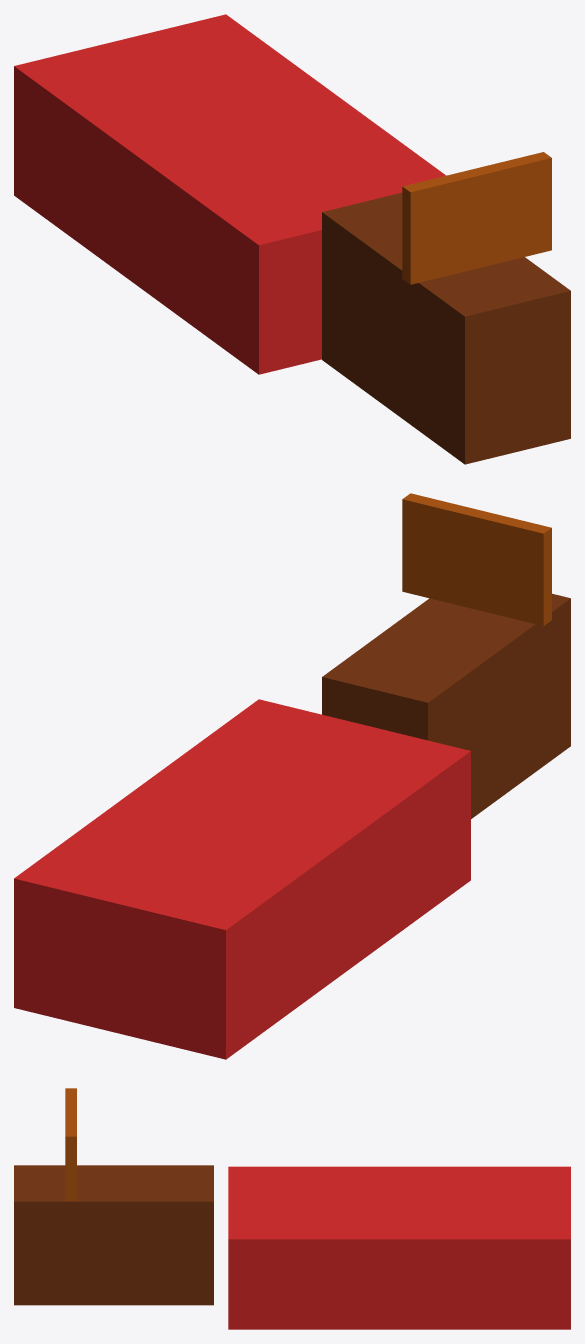
The model's file is reindeer.glb.
The picture shows the model from 3 angles, top to bottom: view 1: azimuth 30°, elevation 25°; view 2: azimuth 150°, elevation 25°; view 3: azimuth 270°, elevation 25°; orthographic projection. The views are drawn at different scales.
Size of the model in its own units: 0.3077 by 0.359 by 1.
